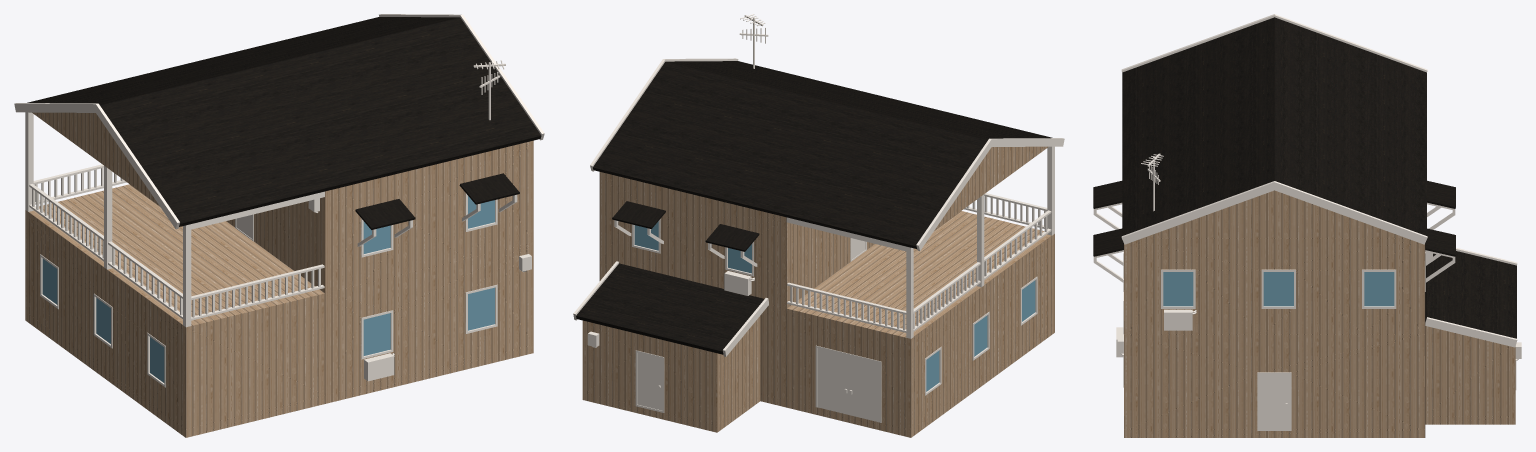
File: two_story_house.glb
3 renders of one model, left to right at view 1: azimuth 30°, elevation 25°; view 2: azimuth 150°, elevation 25°; view 3: azimuth 270°, elevation 25°, orthographic. The views are drawn at different scales.
Parts seen in each view (by area): view 1: Spline_103, BackWall_4, BackWall_63, RightWall_128, Cube_139, FrontWall_129, RightWall_87, Cube_102, Cube_121, Spline_104, Cube_2, Railing_143 (+19 smaller); view 2: Spline_103, FrontWall_49, Cube_139, FrontWall_129, Spline_233, LeftWall_122, FrontWall_219, RightWall_218, RightWall_87, FrontWall_3, Cube_102, Cube_121 (+19 smaller); view 3: Spline_103, LeftWall_28, LeftWall_70, LeftWall_217, Cube_102, Spline_233, Spline_105, Cube_2, Cube_30, Spline_104, Cube_72, Cube_75 (+14 smaller).
Part boxes in pixels (bbox=[...]): Spline_103: bbox=[27, 17, 541, 226]; BackWall_4: bbox=[325, 242, 533, 395]; BackWall_63: bbox=[322, 140, 533, 293]; RightWall_128: bbox=[183, 291, 324, 428]; Cube_139: bbox=[32, 186, 322, 323]; FrontWall_129: bbox=[27, 211, 183, 427]; RightWall_87: bbox=[226, 197, 322, 291]; Cube_102: bbox=[32, 112, 159, 205]; Cube_121: bbox=[25, 312, 324, 437]; Spline_104: bbox=[14, 103, 179, 229]; Cube_2: bbox=[325, 344, 533, 403]; Railing_143: bbox=[29, 164, 324, 299]; Spline_103: bbox=[593, 61, 1052, 248]; FrontWall_49: bbox=[599, 172, 788, 308]; Cube_139: bbox=[789, 212, 1048, 335]; FrontWall_129: bbox=[913, 235, 1052, 428]; Spline_233: bbox=[576, 263, 764, 354]; LeftWall_122: bbox=[786, 307, 912, 429]; FrontWall_219: bbox=[586, 321, 713, 423]; RightWall_218: bbox=[713, 316, 760, 424]; RightWall_87: bbox=[788, 223, 874, 306]; FrontWall_3: bbox=[599, 263, 786, 399]; Cube_102: bbox=[934, 146, 1048, 230]; Cube_121: bbox=[786, 325, 1054, 437]; Spline_103: bbox=[1122, 17, 1426, 235]; LeftWall_28: bbox=[1128, 334, 1420, 429]; LeftWall_70: bbox=[1128, 238, 1420, 334]; LeftWall_217: bbox=[1425, 326, 1515, 416]; Cube_102: bbox=[1142, 190, 1406, 238]; Spline_233: bbox=[1425, 251, 1516, 338]; Spline_105: bbox=[1121, 181, 1427, 244]; Cube_2: bbox=[1124, 429, 1425, 437]; Cube_30: bbox=[1259, 374, 1289, 428]; Spline_104: bbox=[1121, 14, 1427, 72]; Cube_72: bbox=[1163, 272, 1193, 306]; Cube_75: bbox=[1263, 272, 1293, 306].
Bounding box in the file's own units: 13.2 × 9.8 × 14.22.
Materials: 9 (3 with a texture image).
